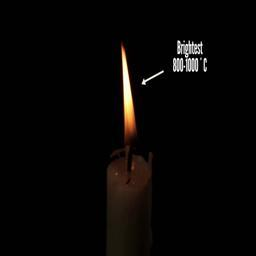fire: (121, 47, 135, 139)
